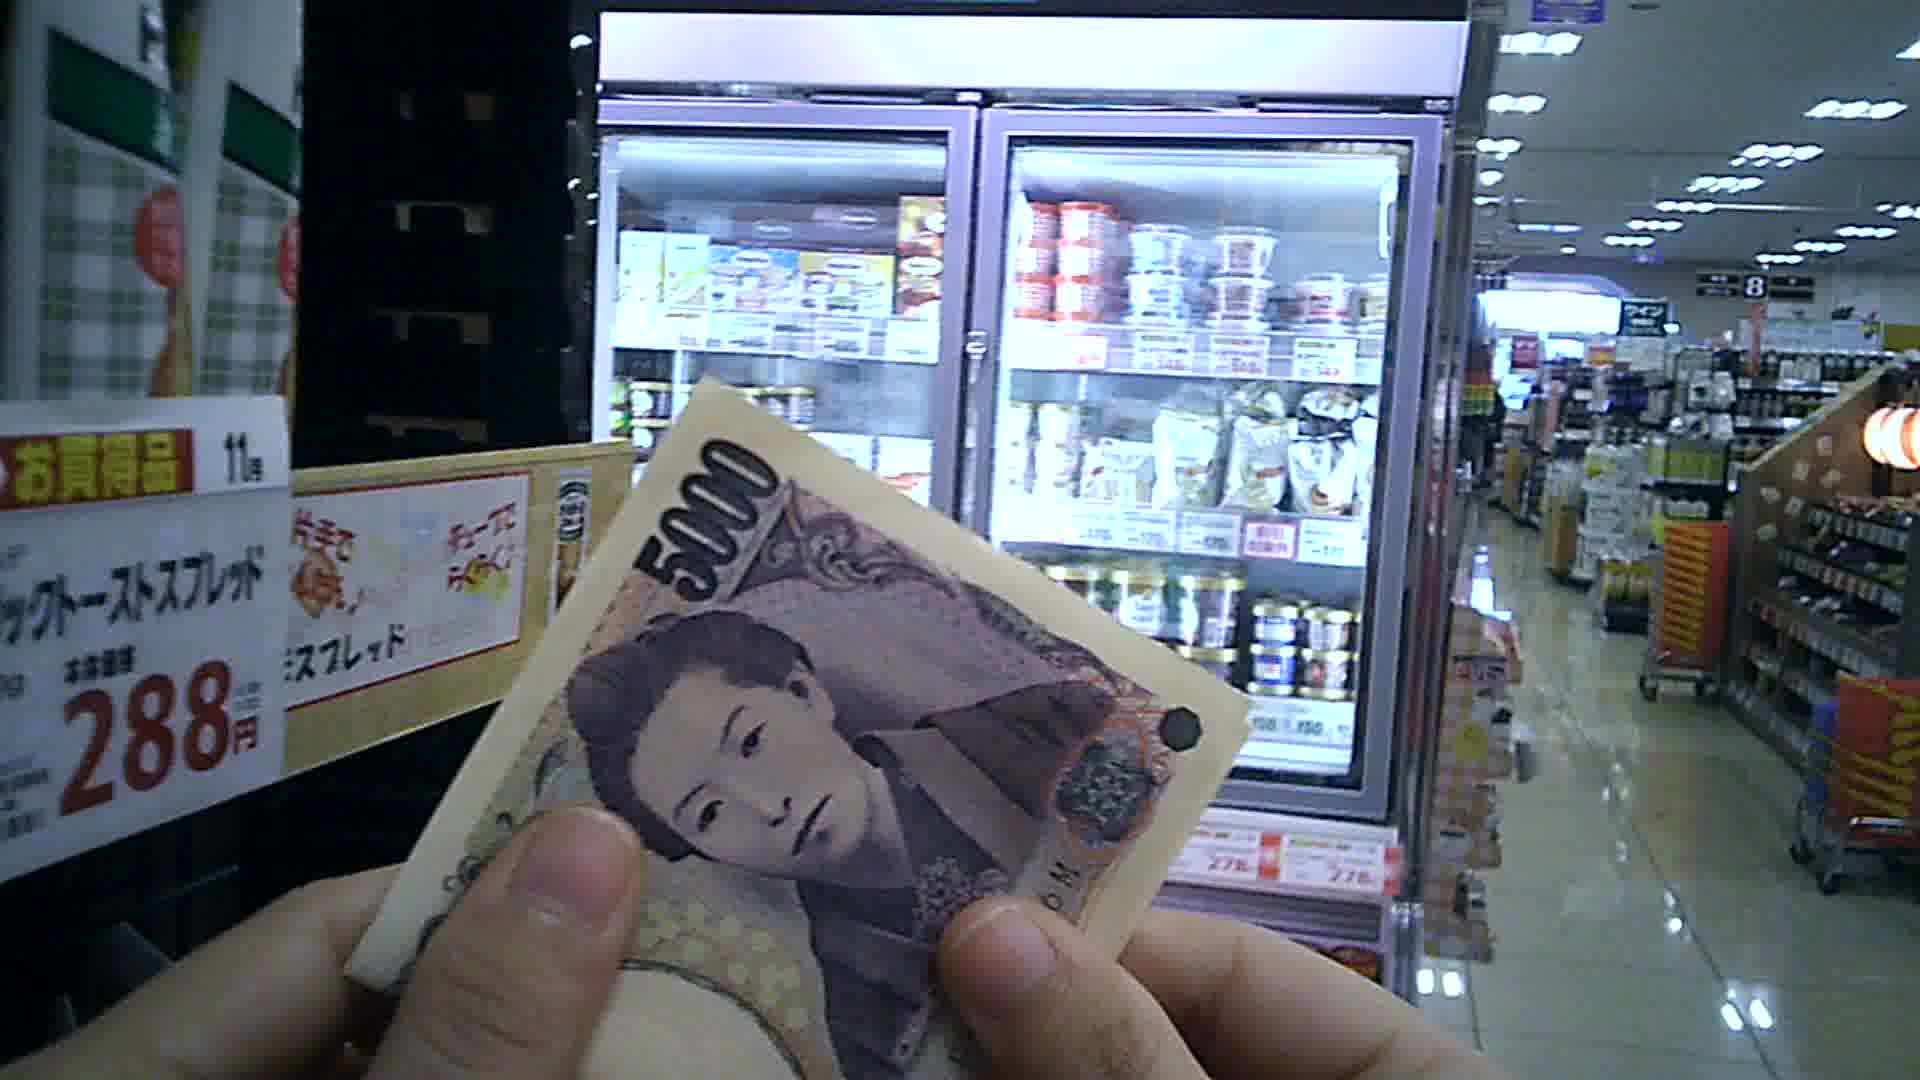5,000 Yen: (382, 365, 1226, 1079)
